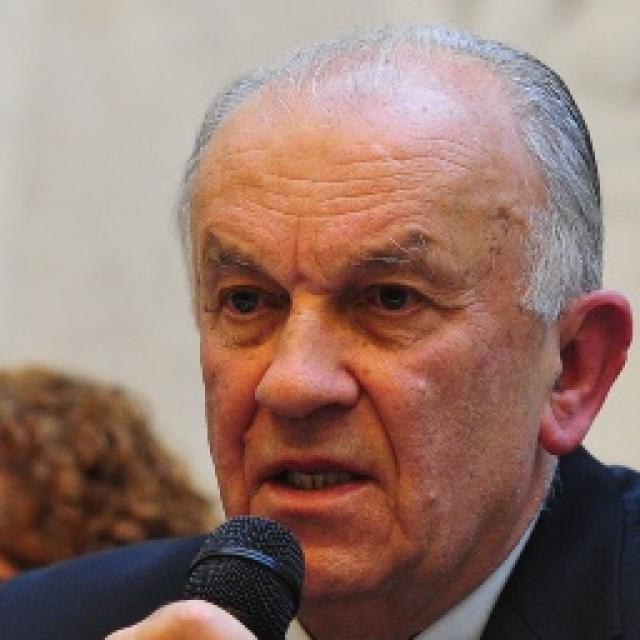earlobe: (537, 393, 589, 457)
eye: (356, 282, 428, 316), (211, 283, 276, 315)
nose: (247, 387, 355, 459)
wholeear: (538, 292, 634, 456)
